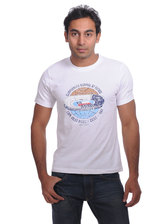clothoes: (34, 56, 141, 178)
